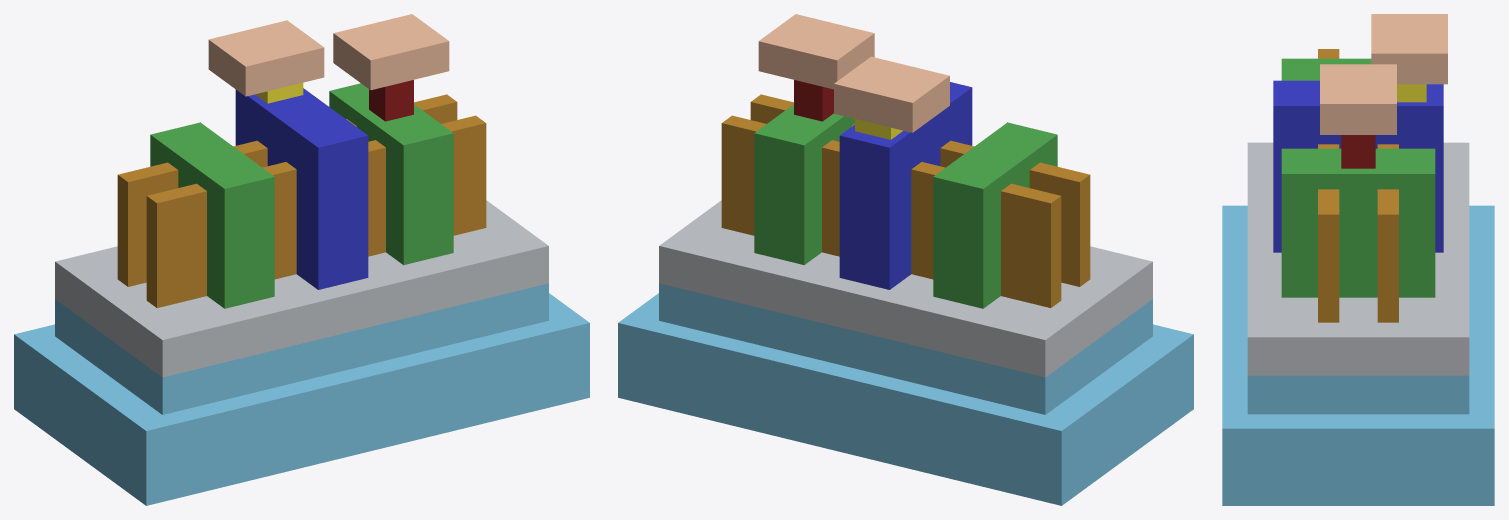
Rendered from simp_fin.obj.
3 views of the same model, side by side, from view 1: azimuth 30°, elevation 25°; view 2: azimuth 150°, elevation 25°; view 3: azimuth 270°, elevation 25° (orthographic). The views are drawn at different scales.
Parts seen in each view (by area): view 1: pwell, fox, pwell_u, po, md_src, md_drn, fsr2, m0_d, m0_g, f2, fsr1, fs2 (+2 smaller); view 2: pwell, fox, pwell_u, po, md_src, md_drn, fsr1, m0_g, m0_d, f1, fsr2, fs1 (+2 smaller); view 3: pwell, fox, md_drn, pwell_u, po, m0_d, m0_g, fs1, fs2, md_src, vd, vg.
Part boxes in pixels (box(x1,y1,x2,y2)): pwell: box(14, 293, 589, 505); fox: box(55, 200, 548, 377); pwell_u: box(55, 283, 548, 414); po: box(235, 88, 368, 289); md_src: box(150, 122, 274, 308); md_drn: box(329, 83, 453, 265); fsr2: box(146, 183, 206, 307); m0_d: box(333, 14, 449, 90); m0_g: box(208, 20, 324, 96); f2: box(262, 140, 385, 279); fsr1: box(117, 162, 178, 286); fs2: box(441, 115, 486, 235); pwell: box(618, 293, 1193, 505); fox: box(659, 200, 1152, 377); pwell_u: box(659, 283, 1152, 414); po: box(839, 82, 972, 289); md_src: box(933, 122, 1057, 308); md_drn: box(754, 104, 854, 265); fsr1: box(1001, 183, 1061, 307); m0_g: box(834, 56, 949, 132); m0_d: box(758, 14, 874, 89); f1: box(822, 140, 945, 279); fsr2: box(1029, 162, 1090, 286); fs1: box(721, 115, 766, 235); pwell: box(1222, 205, 1494, 505); fox: box(1247, 142, 1469, 375); md_drn: box(1281, 148, 1435, 297); pwell_u: box(1247, 375, 1469, 414); po: box(1273, 80, 1443, 252); m0_d: box(1320, 64, 1396, 134); m0_g: box(1371, 14, 1447, 84); fs1: box(1377, 189, 1398, 322); fs2: box(1318, 189, 1339, 322); md_src: box(1281, 58, 1371, 80); vd: box(1341, 135, 1375, 168); vg: box(1397, 84, 1426, 102).
Size of the model in its own units: 124 by 92 by 64.
